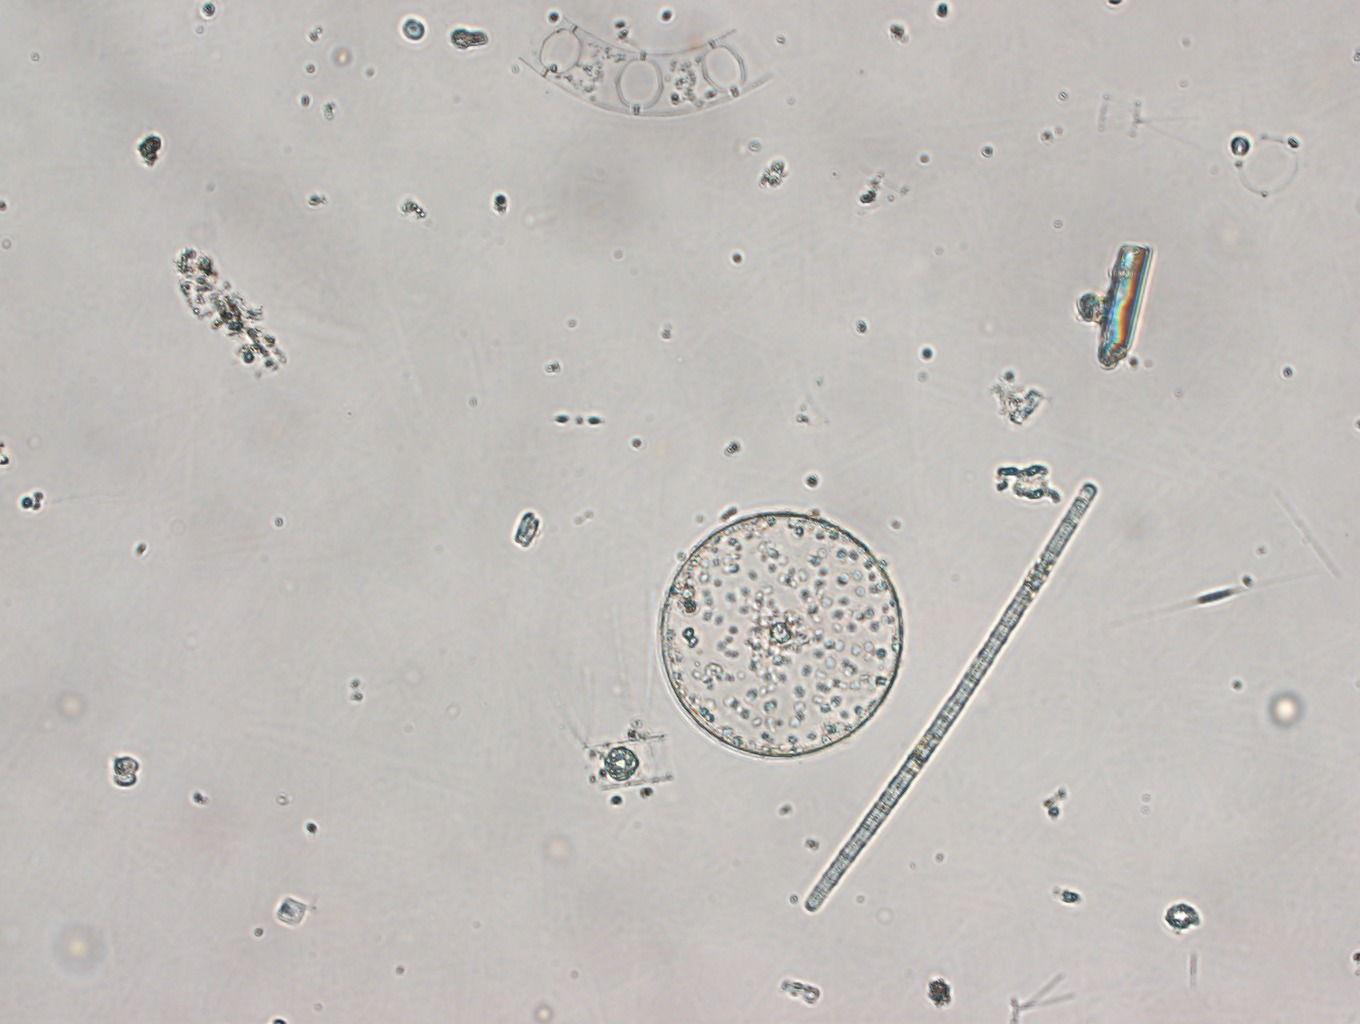coscinodiscus: (658, 511, 904, 758)
eucampia: (518, 15, 773, 118)
